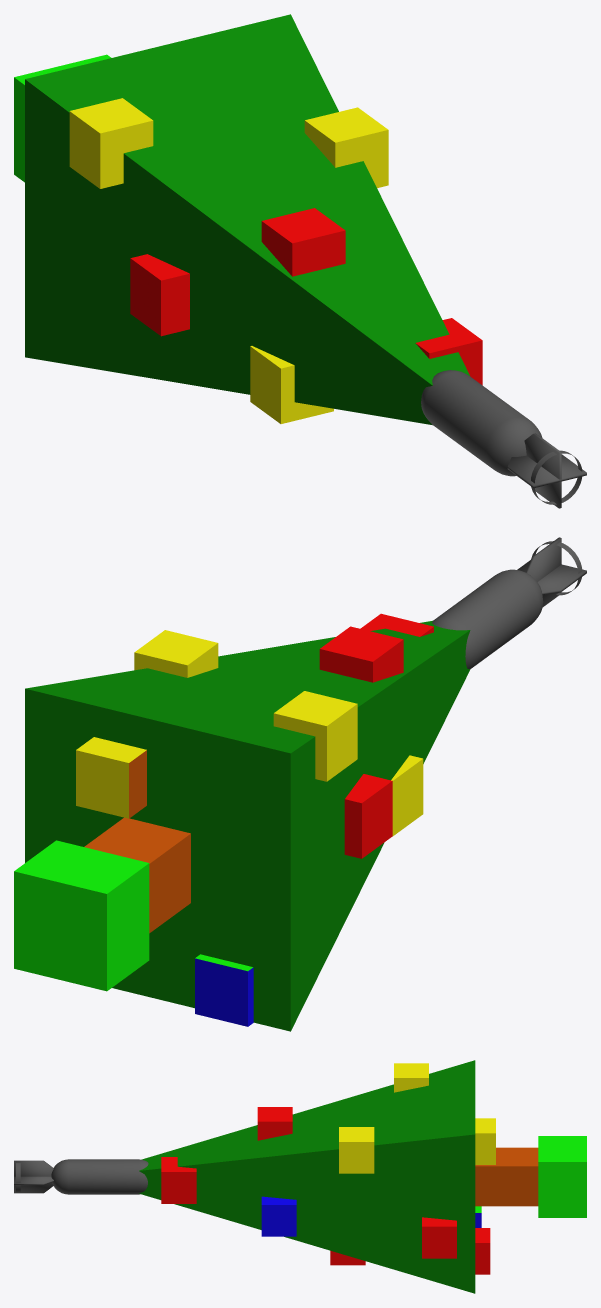
Rendered from xmasTree.obj.
3 renders of one model, top to bottom at view 1: azimuth 30°, elevation 25°; view 2: azimuth 150°, elevation 25°; view 3: azimuth 270°, elevation 25°, orthographic. The views are drawn at different scales.
Parts seen in each view (by area): view 1: xmasTree_Cube; view 2: xmasTree_Cube; view 3: xmasTree_Cube.
Part boxes in pixels (x1=…): xmasTree_Cube: x1=14, y1=14, x2=586, y2=508; xmasTree_Cube: x1=14, y1=537, x2=586, y2=1031; xmasTree_Cube: x1=14, y1=1060, x2=586, y2=1293.
Bounding box in the file's own units: 2.12 × 2 × 6.51.
